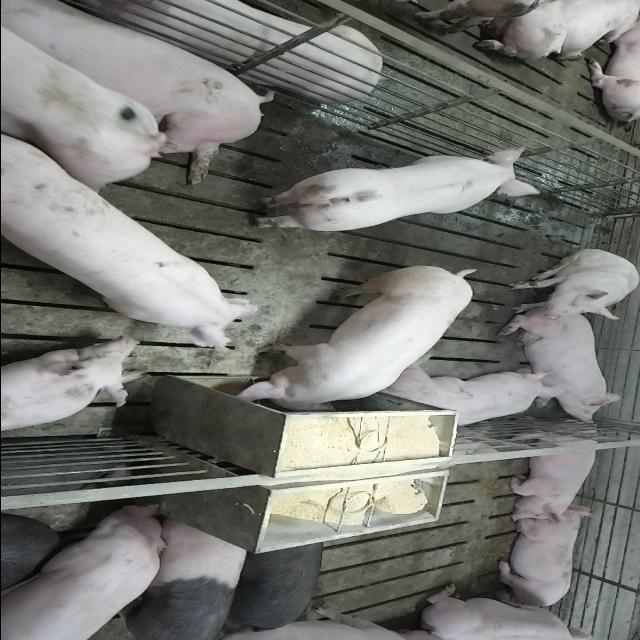Feeding: (223, 270, 477, 420)
Lateral_lying: (62, 0, 382, 104)
Sitting: (503, 249, 638, 319)
Standing: (0, 121, 256, 360), (0, 4, 226, 192), (242, 148, 534, 232), (0, 502, 171, 638), (106, 517, 254, 638), (218, 536, 326, 636)
Sternal_lying: (0, 338, 145, 437), (502, 314, 628, 424), (382, 366, 563, 431), (416, 584, 607, 638), (502, 424, 604, 524), (491, 510, 588, 610)
